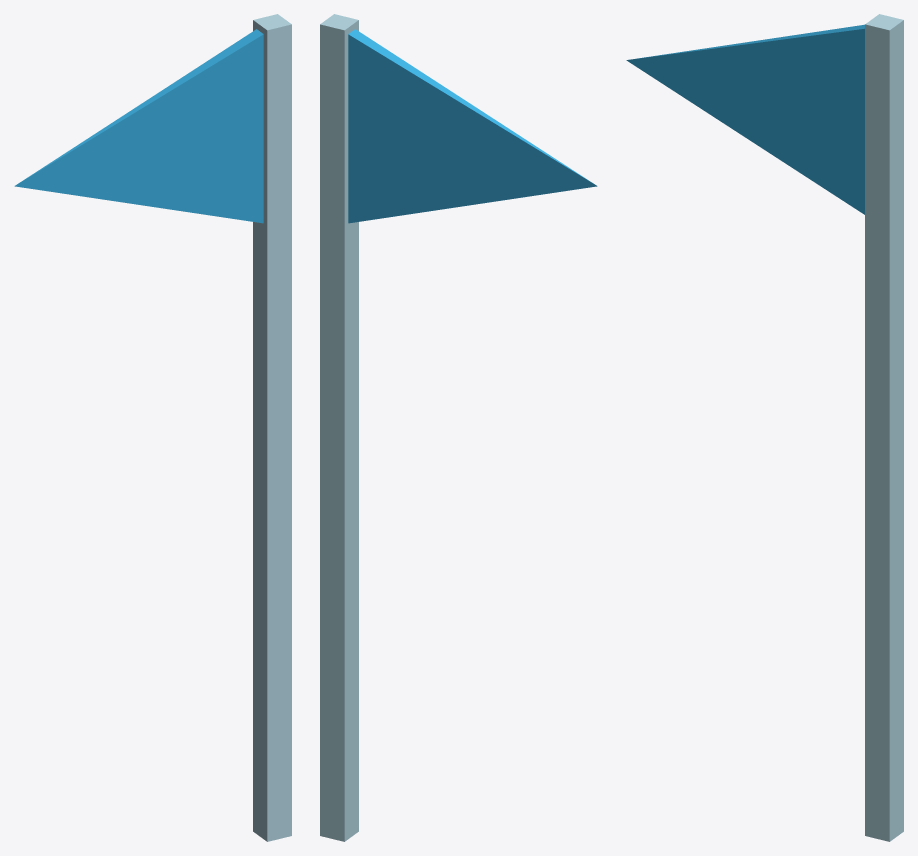
The model's file is flag_blue.fbx.
3 renders of one model, left to right at view 1: azimuth 30°, elevation 25°; view 2: azimuth 150°, elevation 25°; view 3: azimuth 330°, elevation 25°, orthographic.
Visible parts, largest first — view 1: flag_blue; view 2: flag_blue; view 3: flag_blue.
Part boxes in pixels (<box>): flag_blue: <box>14,14,291,841</box>; flag_blue: <box>320,14,597,841</box>; flag_blue: <box>626,14,903,841</box>.
Size of the model in its own units: 3.67 by 10.5 by 0.3333.
